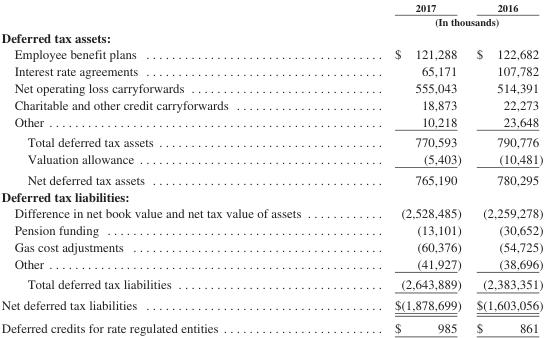table: (0, 1, 542, 335)
table column: (0, 1, 347, 335), (347, 1, 468, 335), (468, 1, 542, 335)
table column header: (0, 1, 542, 28)
table projected row header: (0, 28, 542, 45), (0, 187, 542, 204)
table row: (0, 294, 542, 316), (0, 273, 542, 294), (0, 112, 542, 131), (0, 131, 542, 150), (0, 150, 542, 169), (0, 254, 542, 273), (0, 316, 542, 335), (0, 169, 542, 187), (0, 28, 542, 45), (0, 45, 542, 62), (0, 62, 542, 79), (0, 79, 542, 96), (0, 187, 542, 204), (0, 204, 542, 221), (0, 221, 542, 238), (0, 96, 542, 112), (0, 238, 542, 254), (0, 14, 542, 28), (0, 1, 542, 14)
table spanning cell: (347, 14, 542, 28)
